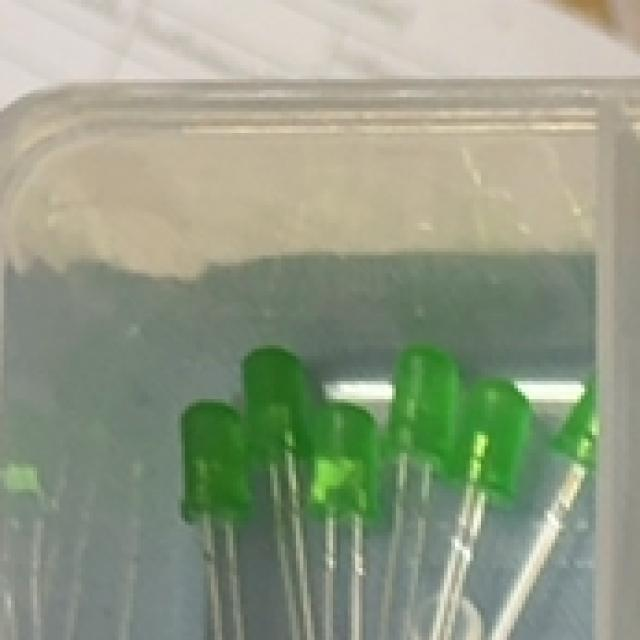GREEN_LED: (489, 362, 598, 640), (437, 374, 529, 640), (240, 347, 320, 640), (383, 339, 460, 640), (178, 400, 260, 640), (310, 399, 381, 640)
